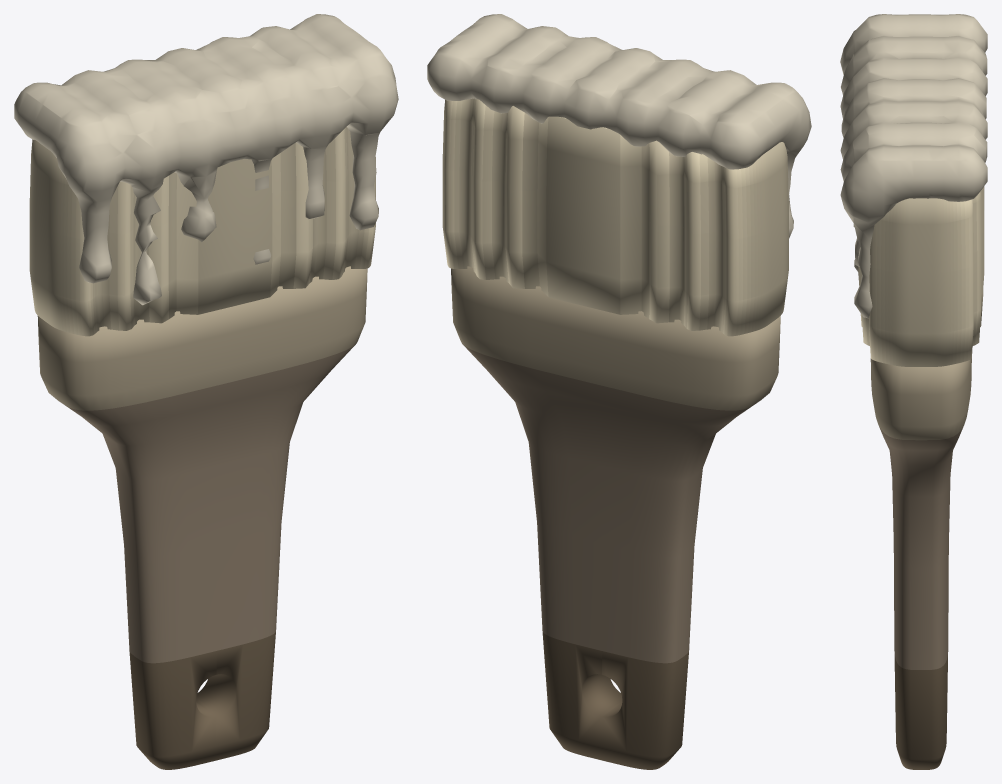
The model's file is Paintbrush_Rat.glb.
3 views of the same model, side by side, from view 1: azimuth 30°, elevation 25°; view 2: azimuth 150°, elevation 25°; view 3: azimuth 270°, elevation 25° (orthographic). The views are drawn at different scales.
Visible parts, largest first — view 1: Body, Paint, Bristles; view 2: Body, Bristles, Paint; view 3: Paint, Body, Bristles.
Part boxes in pixels (x1,y1,x2,y2): Body: (37,266,367,769); Paint: (14,14,398,305); Bristles: (29,127,375,336); Body: (451,266,780,769); Bristles: (442,98,788,336); Paint: (427,14,811,238); Paint: (840,14,987,318); Body: (870,358,971,769); Bristles: (858,186,984,366).
Bounding box in the file's own units: 1.23 × 2.44 × 0.4919.
